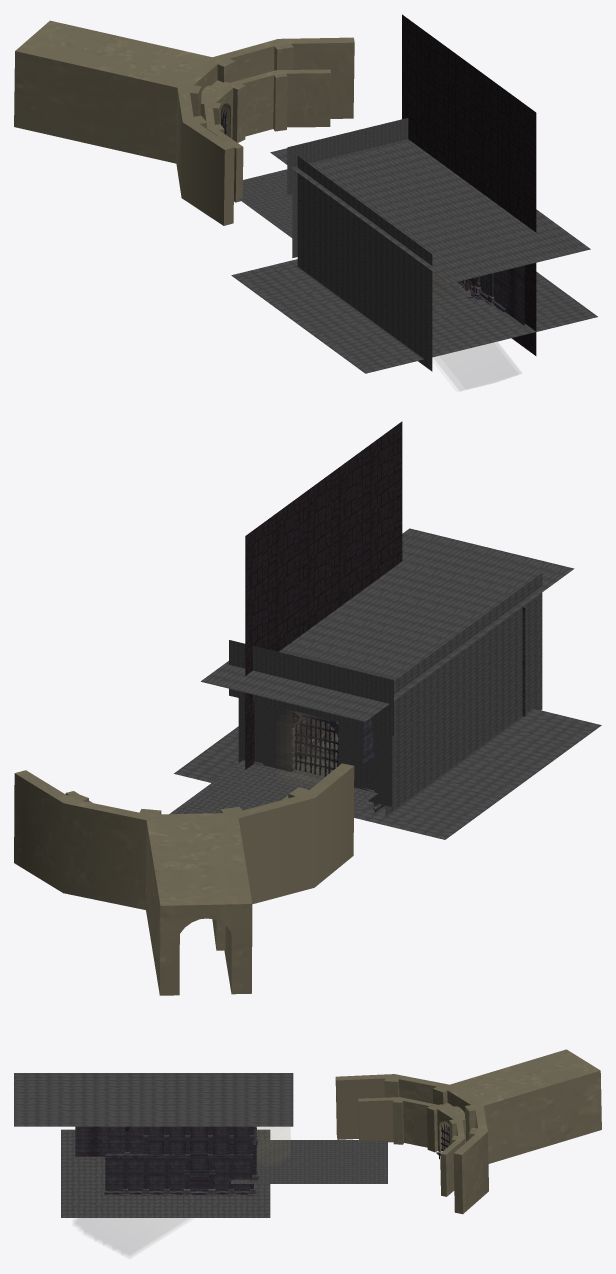
The model's file is bf_home_default.glb.
The picture shows the model from 3 angles, top to bottom: view 1: azimuth 30°, elevation 25°; view 2: azimuth 150°, elevation 25°; view 3: azimuth 270°, elevation 25°; orthographic projection. The views are drawn at different scales.
Visible parts, largest first — view 1: colliseum (1), Floor_01 (1) (×2), Floor_01 (2) (×2), Cube (1), colliseum, Floor_01 (4), metal_fence_light_ray_meshv2, wall_13_meld (4), wall_13 (2); view 2: colliseum (1), Floor_01 (1) (×2), Floor_01 (2) (×2), Cube (1), Floor_01 (4), Floor_01 (5), Floor_01 (6), metal_fence_light_ray_meshv2, metalFence_meld; view 3: Floor_01 (2) (×2), colliseum (1), Floor_01 (1), colliseum, metal_fence_light_ray_meshv2, wall_13 (2), wall_13 (1), wall_13, wall_13 (3), wall_13_meld (3).
Part boxes in pixels (x1,y1,x2,y2): colliseum (1): (14, 20, 354, 225); Floor_01 (1) (×2): (231, 156, 597, 373); Floor_01 (2) (×2): (239, 139, 590, 283); Cube (1): (402, 14, 536, 355); colliseum: (200, 69, 330, 202); Floor_01 (4): (287, 118, 408, 194); metal_fence_light_ray_meshv2: (433, 272, 518, 389); wall_13_meld (4): (504, 269, 524, 325); wall_13 (2): (472, 270, 505, 312); colliseum (1): (14, 763, 354, 995); Floor_01 (1) (×2): (174, 573, 601, 839); Floor_01 (2) (×2): (169, 528, 574, 814); Cube (1): (245, 421, 402, 769); Floor_01 (4): (229, 640, 393, 735); Floor_01 (5): (338, 722, 391, 806); Floor_01 (6): (238, 698, 291, 772); metal_fence_light_ray_meshv2: (286, 712, 337, 782); metalFence_meld: (295, 717, 338, 776); Floor_01 (2) (×2): (14, 1073, 387, 1183); colliseum (1): (335, 1049, 601, 1214); Floor_01 (1): (61, 1129, 270, 1217); colliseum: (358, 1097, 466, 1196); metal_fence_light_ray_meshv2: (75, 1127, 289, 1254); wall_13 (2): (104, 1153, 150, 1195); wall_13 (1): (148, 1155, 192, 1195); wall_13: (212, 1155, 256, 1195); wall_13 (3): (107, 1126, 143, 1154); wall_13_meld (3): (75, 1126, 107, 1156).
Size of the model in its own units: 23.33 by 24.94 by 56.24.
9 materials, 9 textured.
